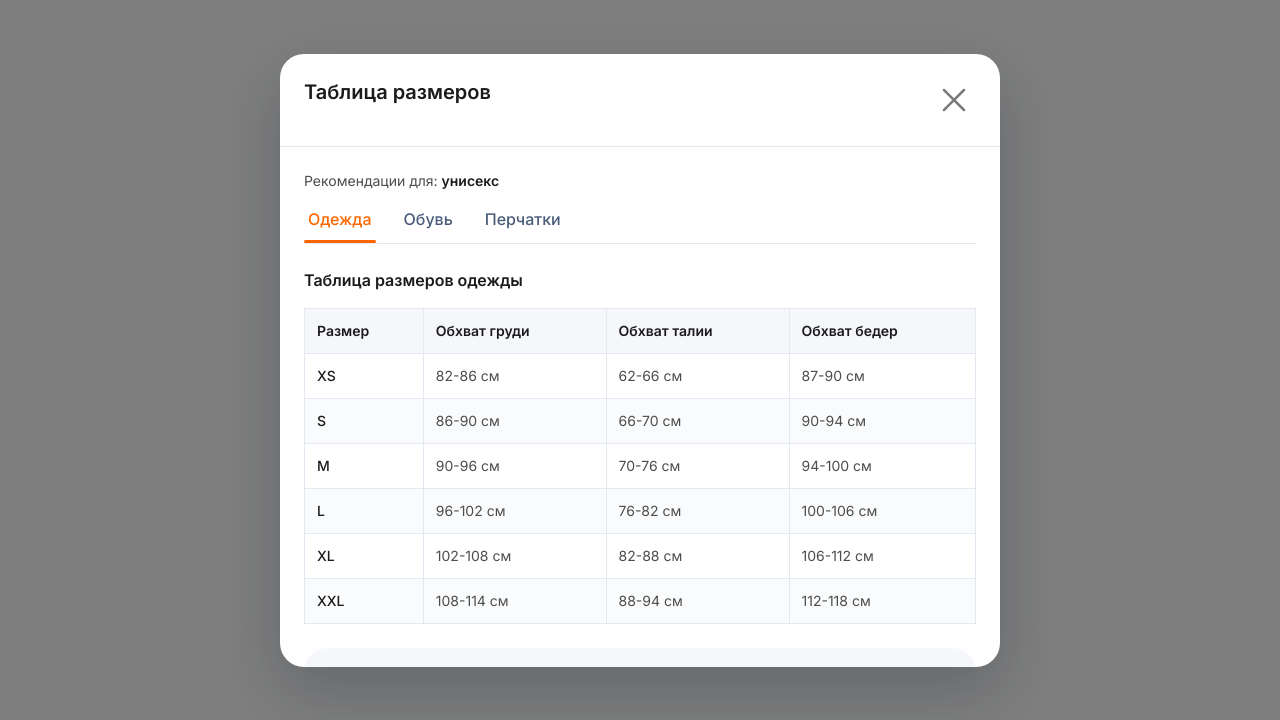
SizeChartModal › Glove Size Data › shows measurement instructions for gloves
The width and height of the screenshot is (1280, 720).
Click the tab "Перчатки". click: [523, 224]
box: [481,206,565,242]
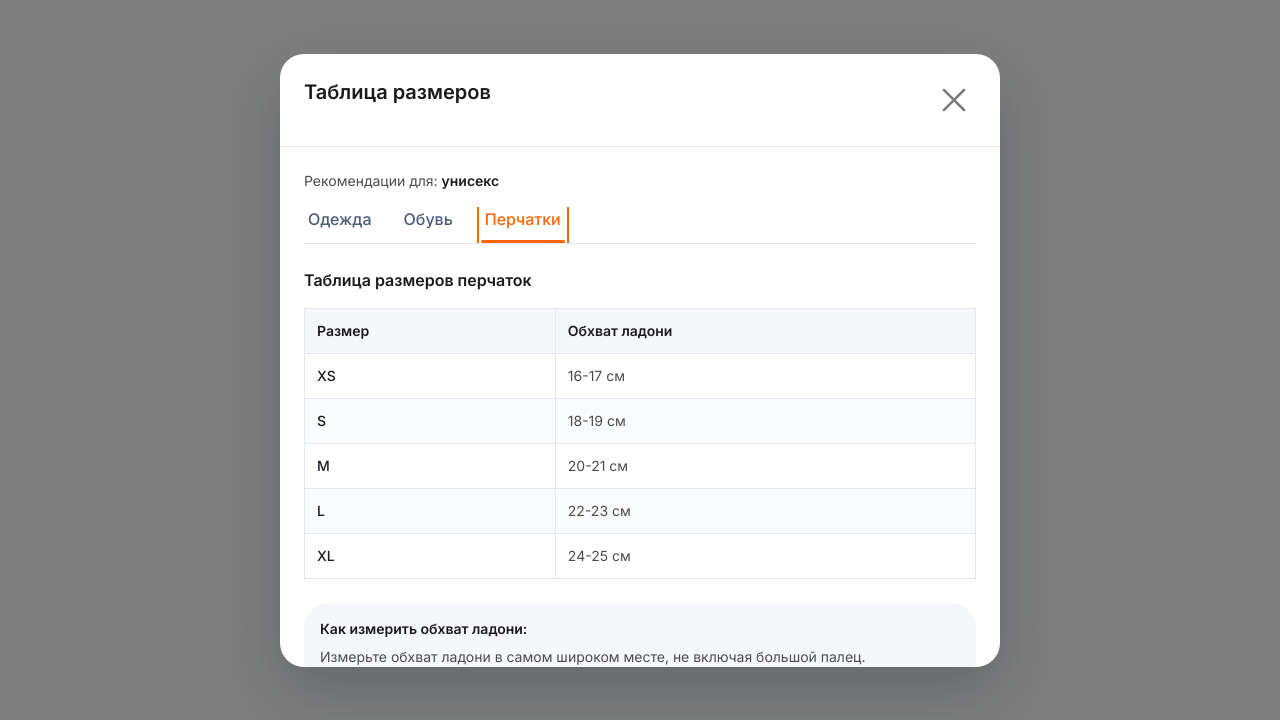
Expected: the heading "Как измерить обхват ладони:" is shown, [320,620,527,636]
Expected: the text "Измерьте обхват ладони в самом широком месте" is shown, [320,648,866,664]
